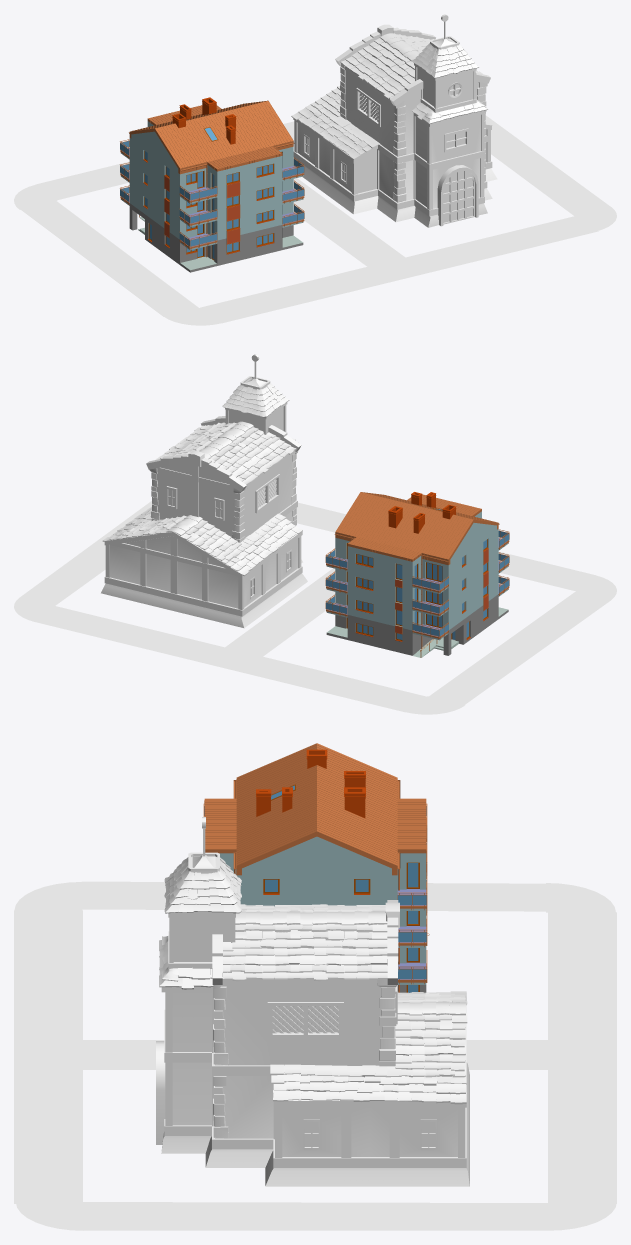
The model's file is building with road.glb.
3 views of the same model, one above another, from view 1: azimuth 30°, elevation 25°; view 2: azimuth 150°, elevation 25°; view 3: azimuth 270°, elevation 25° (orthographic). The views are drawn at different scales.
Visible parts, largest first — view 1: medival_house, building_04, Plane.004, Plane.002, Plane.001, Circle.003, Circle.004, Circle.002; view 2: medival_house, building_04, Plane.004, Plane.002, Plane.001, Circle.003, Circle.004, Circle.001; view 3: medival_house, Plane.004, building_04, Plane.001, Plane.002, Circle.003, Circle.004, Circle.002, Circle.001.
Boxes of the visible parts, <box> form: medival_house: <box>291,14,497,227</box>; building_04: <box>120,97,304,272</box>; Plane.004: <box>36,121,598,323</box>; Plane.002: <box>20,201,198,316</box>; Plane.001: <box>485,115,610,215</box>; Circle.003: <box>14,184,57,209</box>; Circle.004: <box>164,307,221,325</box>; Circle.002: <box>575,207,616,231</box>; medival_house: <box>101,354,307,628</box>; building_04: <box>325,492,509,657</box>; Plane.004: <box>35,502,595,712</box>; Plane.002: <box>429,591,611,705</box>; Plane.001: <box>20,501,151,605</box>; Circle.003: <box>406,696,464,714</box>; Circle.004: <box>575,575,616,599</box>; Circle.001: <box>14,597,52,621</box>; medival_house: <box>156,817,469,1186</box>; Plane.004: <box>14,910,616,1203</box>; building_04: <box>203,743,429,992</box>; Plane.001: <box>83,1202,549,1230</box>; Plane.002: <box>81,881,547,911</box>; Circle.003: <box>546,883,615,912</box>; Circle.004: <box>14,882,82,910</box>; Circle.002: <box>16,1202,82,1230</box>; Circle.001: <box>549,1202,616,1230</box>.
Size of what is drawn, in the model's own units: 23.95 by 10.01 by 17.48.
